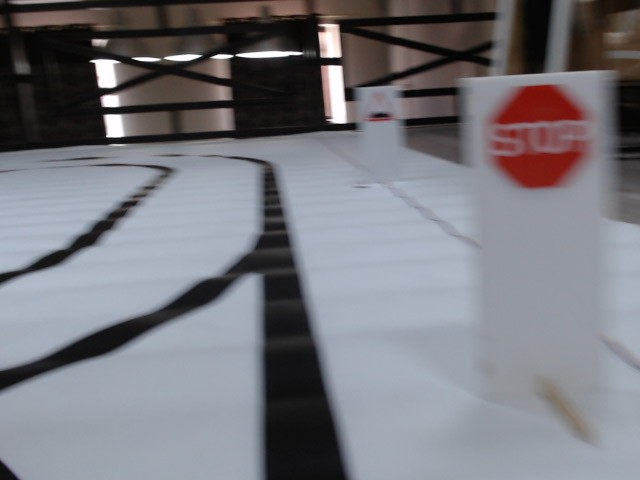Stop: (489, 85, 591, 190)
